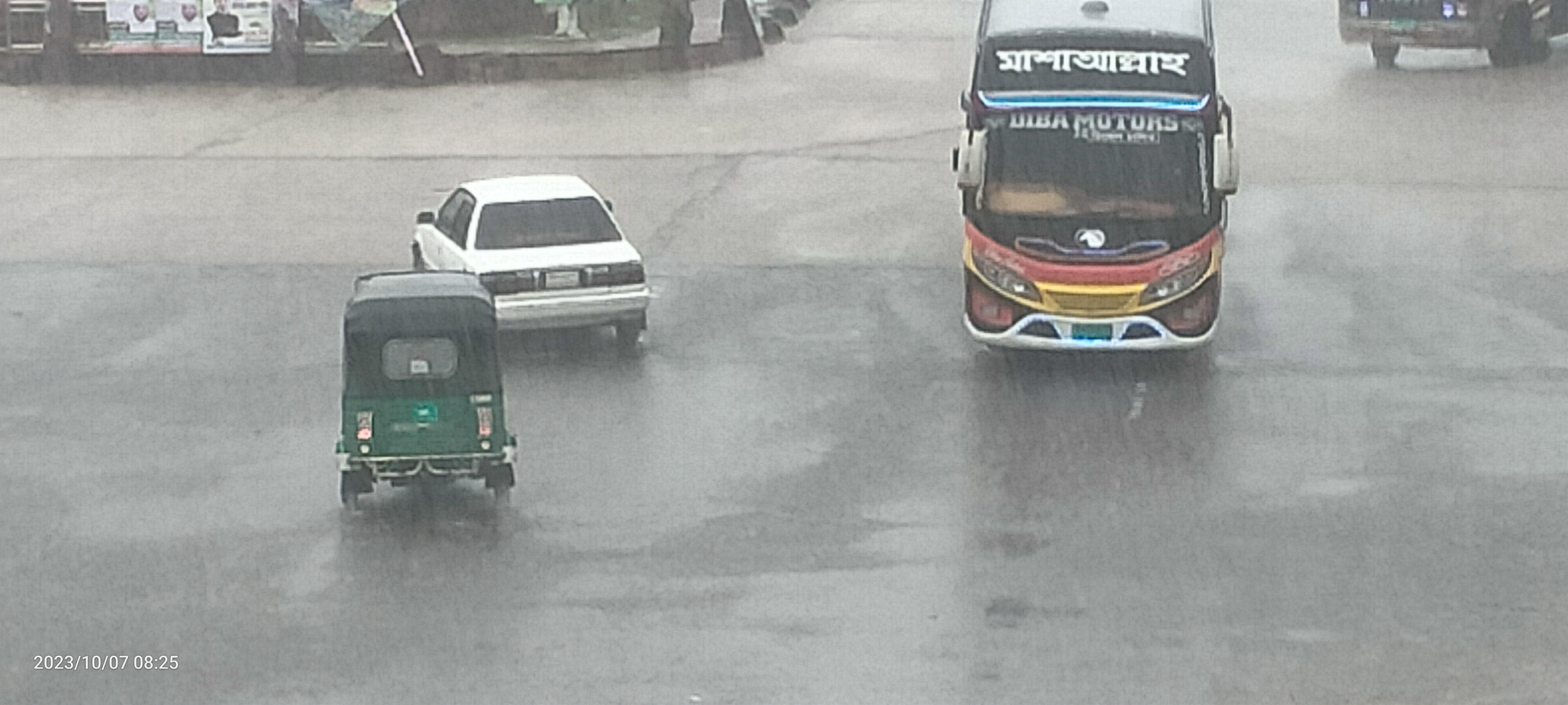Bus: (927, 0, 1325, 406), (1322, 0, 1568, 107)
Car: (365, 108, 679, 376)
